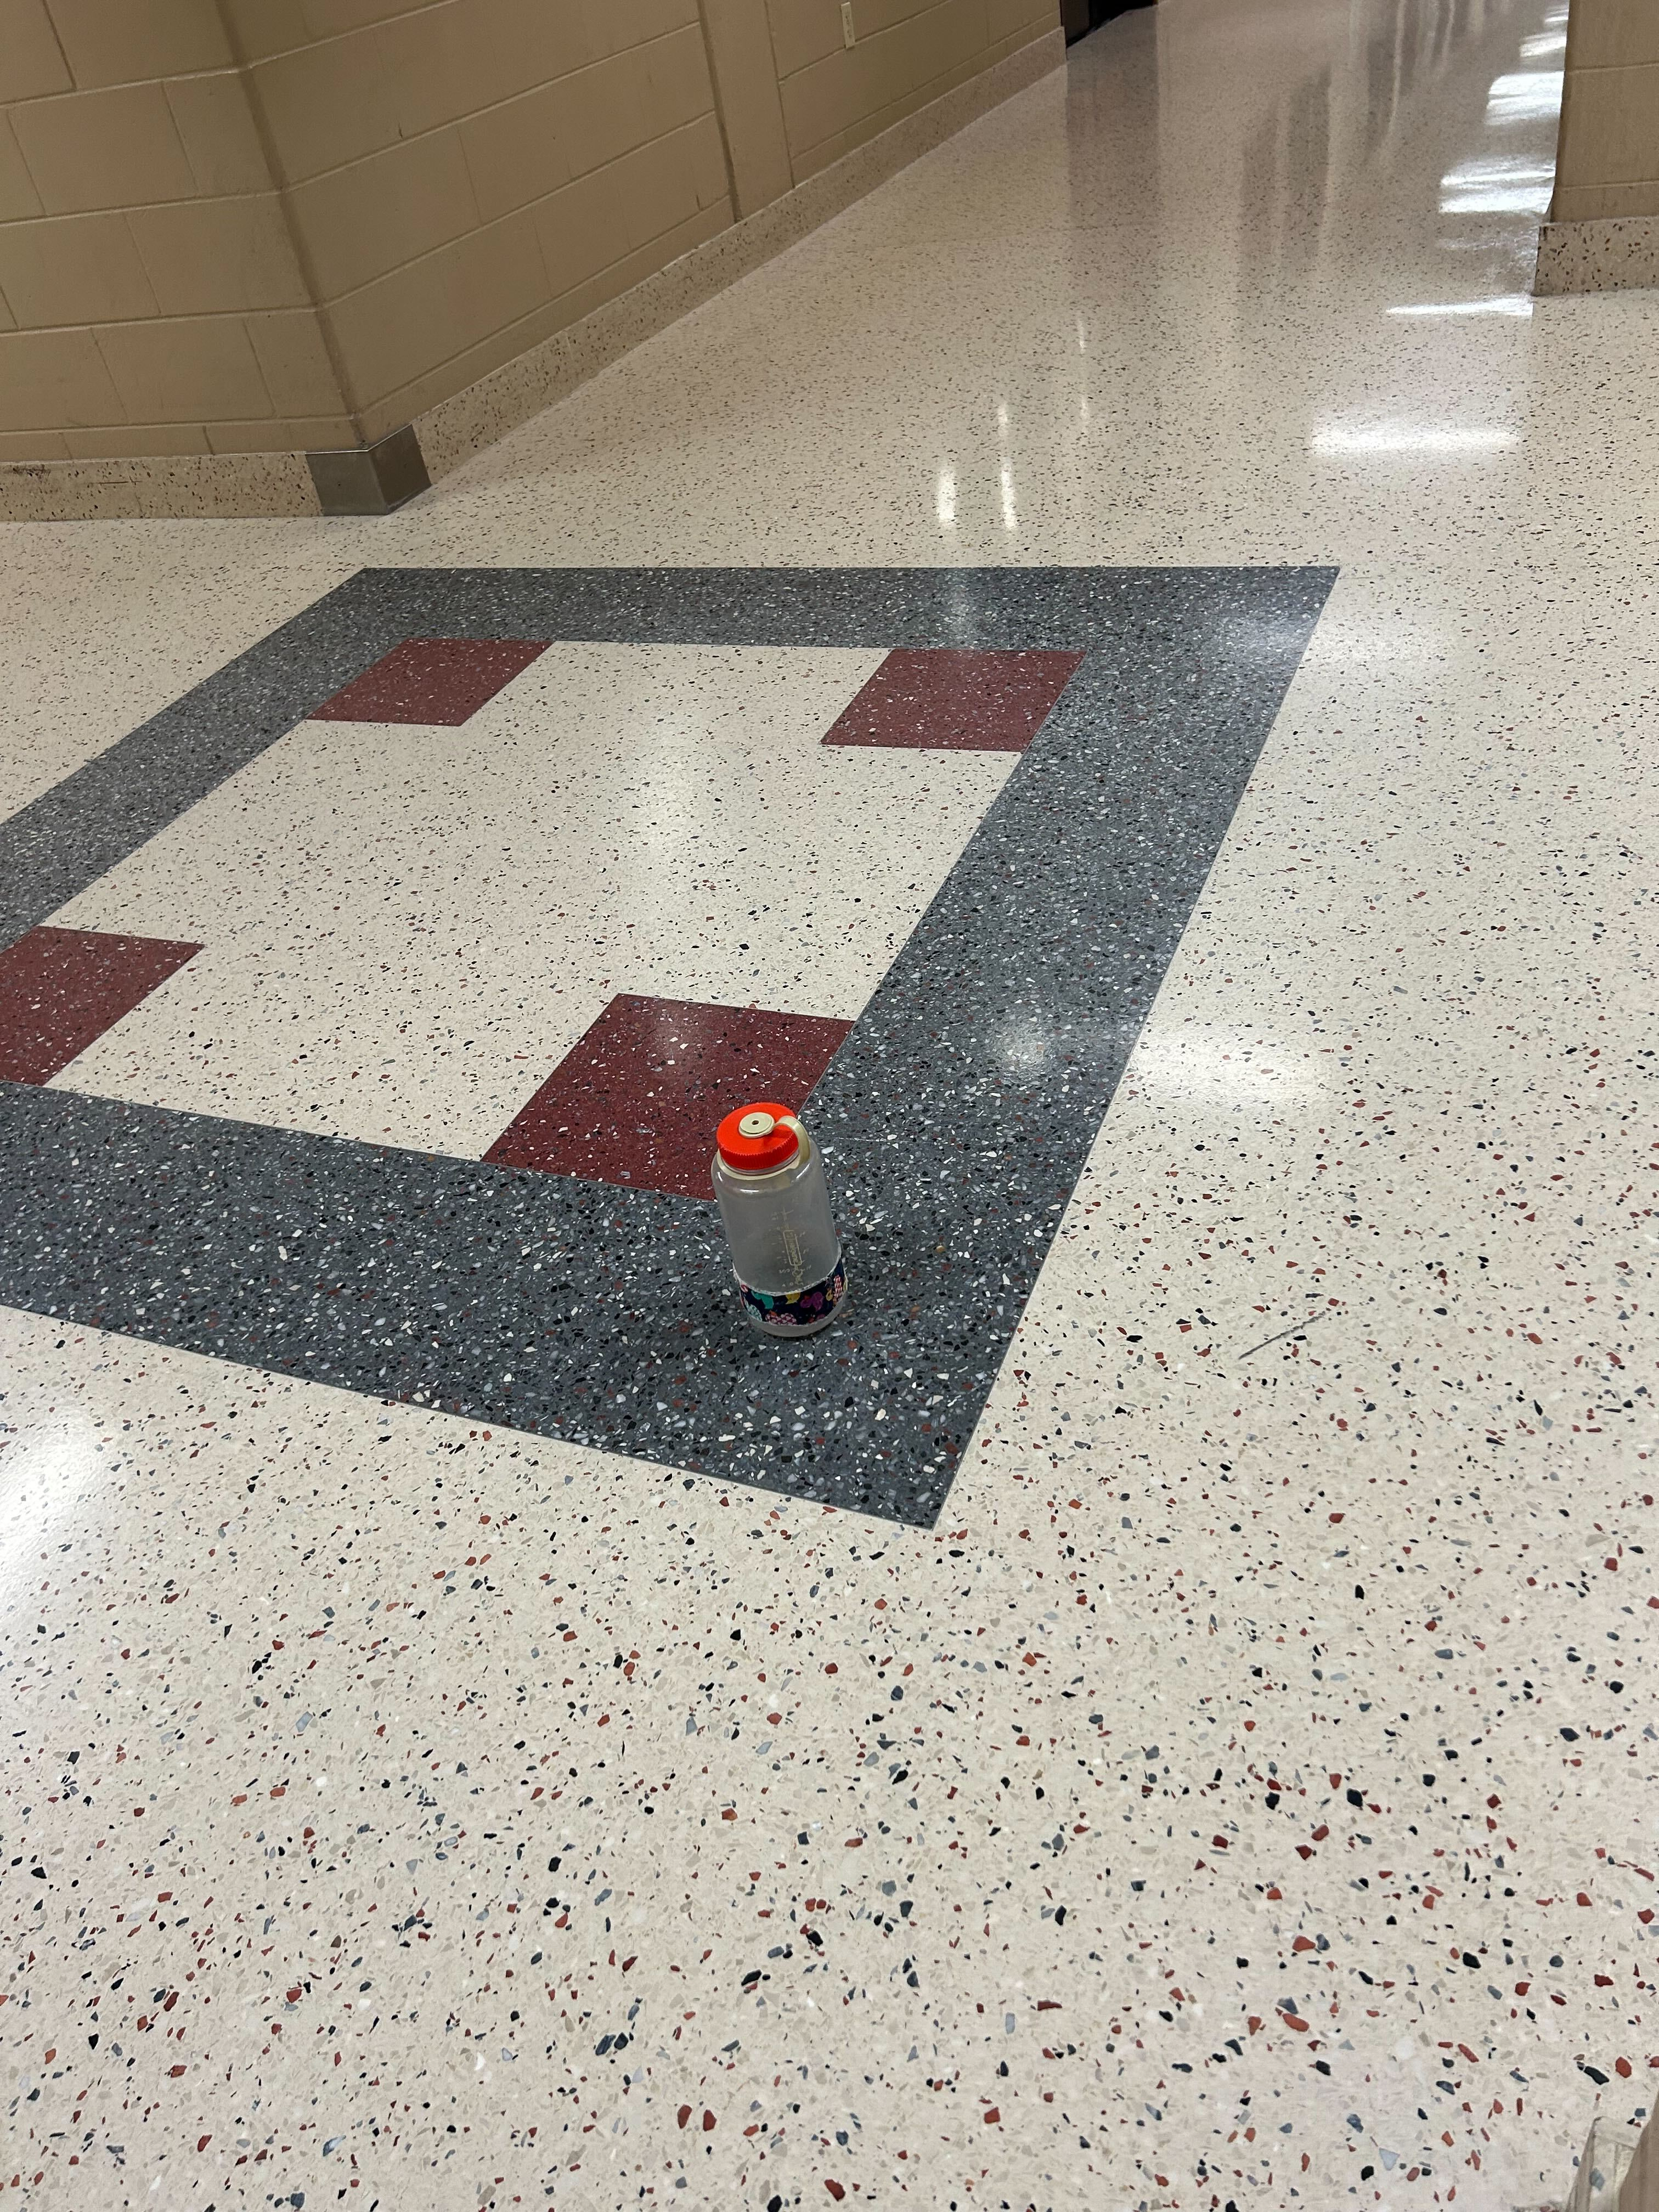bottle: (706, 1090, 849, 1345)
